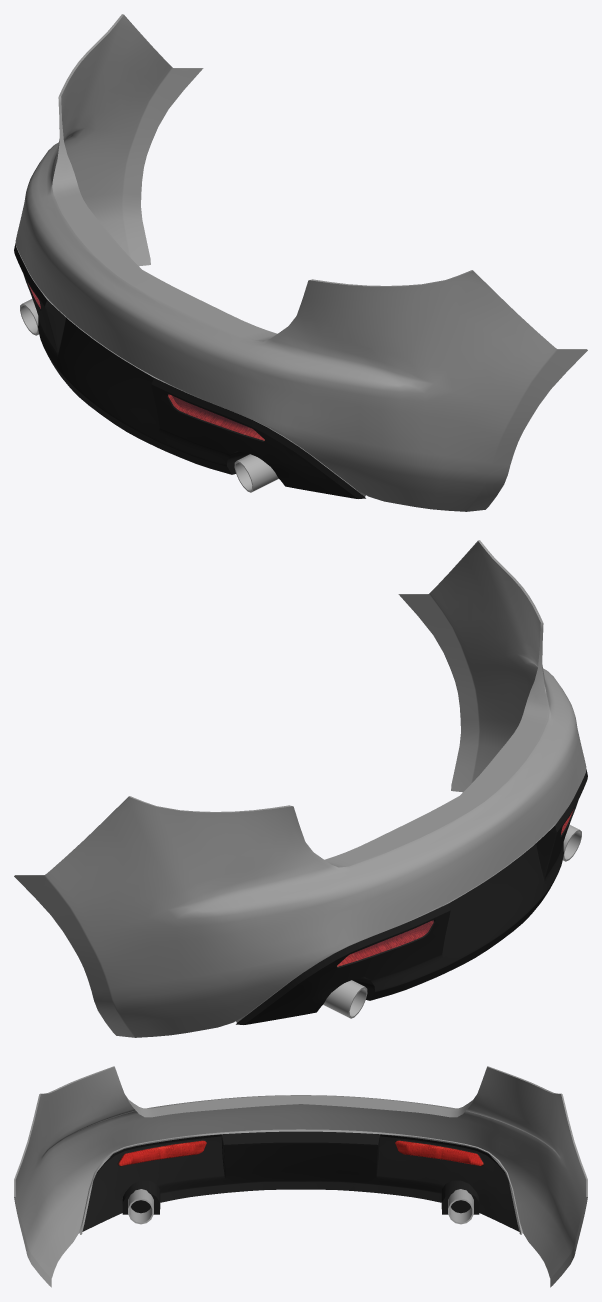
The picture shows the model from 3 angles, top to bottom: view 1: azimuth 30°, elevation 25°; view 2: azimuth 150°, elevation 25°; view 3: azimuth 270°, elevation 25°; orthographic projection. The views are drawn at different scales.
Visible parts, largest first — view 1: D162_561G_C_D162_561G_C_7_DaS, D162_561G_C_D162_561G_C_4, D162_561G_C_D162_561G_C_7_DaS_E, D162_561G_C_D162_561G_C_4_E, D162_561G_C_D162_561G_C_3_DaS, D162_561G_C_D162_561G_C_2_N, D162_561G_C_D162_561G_C_9_DTaSI; view 2: D162_561G_C_D162_561G_C_7_DaS, D162_561G_C_D162_561G_C_4, D162_561G_C_D162_561G_C_7_DaS_E, D162_561G_C_D162_561G_C_4_E, D162_561G_C_D162_561G_C_3_DaS, D162_561G_C_1_N_D162_561G_C, D162_561G_C_D162_561G_C_8_DTaSI; view 3: D162_561G_C_D162_561G_C_7_DaS, D162_561G_C_D162_561G_C_4, D162_561G_C_D162_561G_C_7_DaS_E, D162_561G_C_D162_561G_C_4_E, D162_561G_C_D162_561G_C_3_DaS, D162_561G_C_1_N_D162_561G_C, D162_561G_C_D162_561G_C_2_N, D162_561G_C_D162_561G_C_5_D.
Part boxes in pixels (left/top/right/bottom): D162_561G_C_D162_561G_C_7_DaS: left=15, top=15, right=587, bottom=511; D162_561G_C_D162_561G_C_4: left=18, top=262, right=357, bottom=498; D162_561G_C_D162_561G_C_7_DaS_E: left=52, top=14, right=587, bottom=349; D162_561G_C_D162_561G_C_4_E: left=14, top=243, right=365, bottom=498; D162_561G_C_D162_561G_C_3_DaS: left=20, top=299, right=278, bottom=492; D162_561G_C_D162_561G_C_2_N: left=168, top=394, right=264, bottom=440; D162_561G_C_D162_561G_C_9_DTaSI: left=168, top=394, right=264, bottom=440; D162_561G_C_D162_561G_C_7_DaS: left=14, top=541, right=586, bottom=1037; D162_561G_C_D162_561G_C_4: left=244, top=788, right=583, bottom=1024; D162_561G_C_D162_561G_C_7_DaS_E: left=14, top=540, right=549, bottom=875; D162_561G_C_D162_561G_C_4_E: left=236, top=769, right=587, bottom=1024; D162_561G_C_D162_561G_C_3_DaS: left=323, top=825, right=581, bottom=1018; D162_561G_C_1_N_D162_561G_C: left=337, top=920, right=433, bottom=966; D162_561G_C_D162_561G_C_8_DTaSI: left=337, top=920, right=433, bottom=966; D162_561G_C_D162_561G_C_7_DaS: left=14, top=1067, right=587, bottom=1287; D162_561G_C_D162_561G_C_4: left=82, top=1131, right=519, bottom=1231; D162_561G_C_D162_561G_C_7_DaS_E: left=14, top=1066, right=587, bottom=1196; D162_561G_C_D162_561G_C_4_E: left=95, top=1134, right=506, bottom=1208; D162_561G_C_D162_561G_C_3_DaS: left=128, top=1189, right=473, bottom=1224; D162_561G_C_1_N_D162_561G_C: left=395, top=1140, right=483, bottom=1165; D162_561G_C_D162_561G_C_2_N: left=118, top=1140, right=206, bottom=1165; D162_561G_C_D162_561G_C_5_D: left=122, top=1192, right=479, bottom=1214.
Size of the model in its own units: 90.52 by 71.75 by 200.
